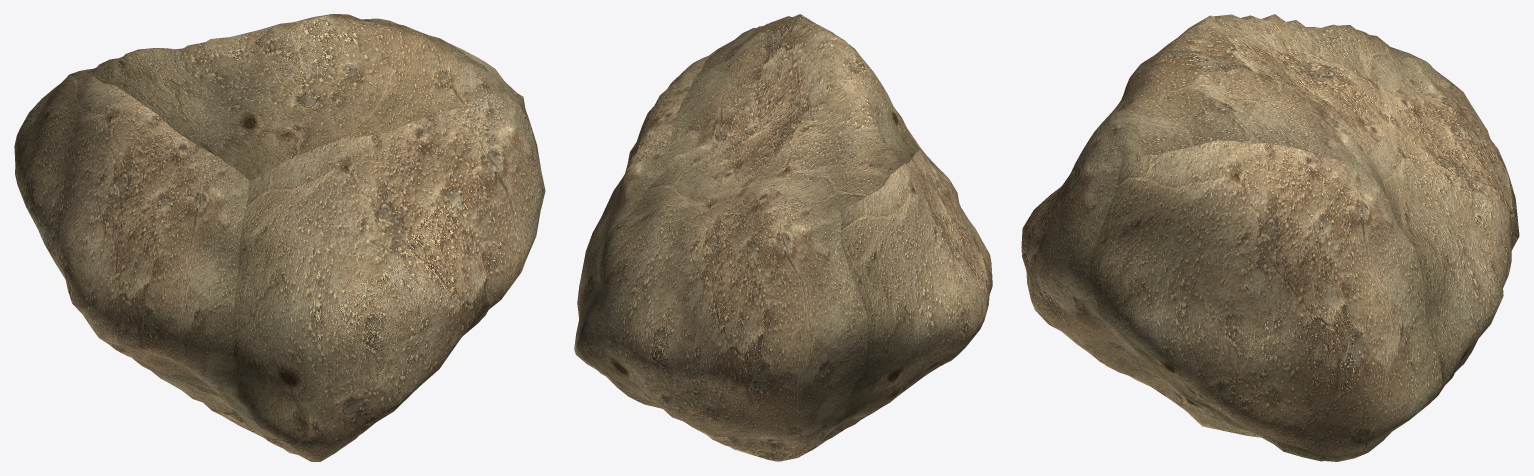
File: MeteoNormal1.FBX
3 renders of one model, left to right at view 1: azimuth 30°, elevation 25°; view 2: azimuth 150°, elevation 25°; view 3: azimuth 270°, elevation 25°, orthographic. The views are drawn at different scales.
Parts seen in each view (by area): view 1: Rock001; view 2: Rock001; view 3: Rock001.
Part boxes in pixels (box(x1,y1,x2,y2)): Rock001: box(14, 14, 545, 461); Rock001: box(574, 14, 992, 461); Rock001: box(1021, 14, 1519, 461).
Size of the model in its own units: 166 by 174 by 185.
1 material, 1 textured.
